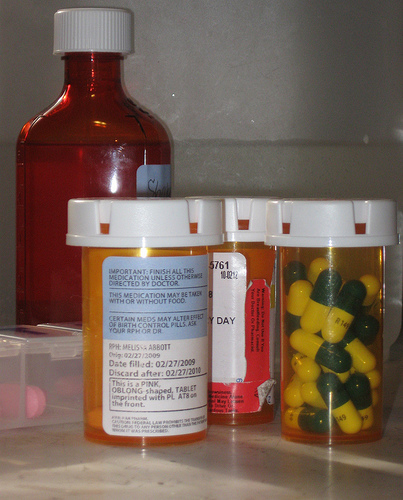pill bottle: (69, 197, 221, 447), (268, 198, 393, 445), (188, 194, 284, 427)
